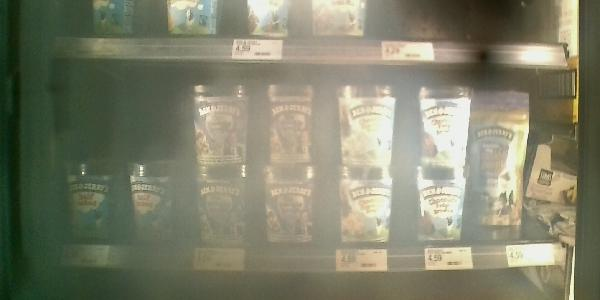icecream: (476, 77, 543, 236), (180, 75, 261, 166), (333, 81, 410, 169), (331, 165, 408, 246), (410, 161, 483, 245), (185, 163, 262, 242), (407, 80, 480, 162), (263, 163, 331, 249), (264, 77, 331, 162), (58, 160, 122, 246), (127, 157, 187, 242)
